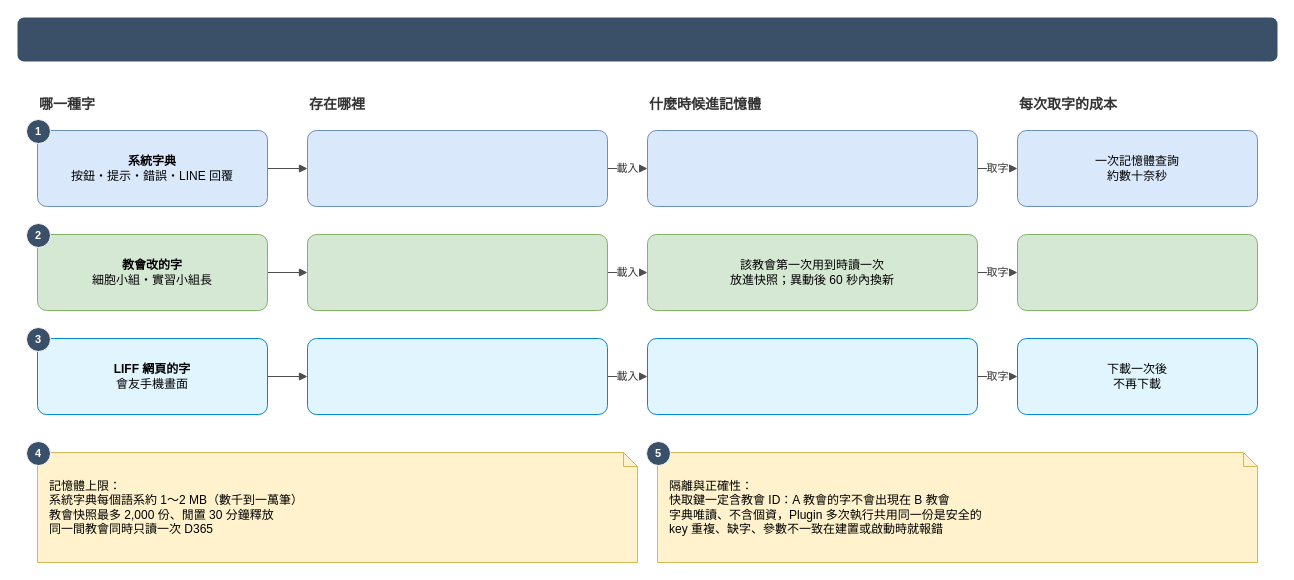
This 1294x580 diagram has some shape labels left out. The centre of each missing label's shape, as x and y in pixels:
"06A｜字典什麼時候進記憶體：取字只查記憶體，不在每次顯示時讀檔或查 D365" goes at point 647,39.
"D365 new_localizedtext （教會＋key＋語系）" goes at point 457,272.
"只下載目前語言那一份 瀏覽器長期快取" goes at point 812,376.
"建置時由 .resx 產生程式碼 編進 DLL（Plugin 也一樣）" goes at point 457,168.
"每個語系一個 JSON 檔 檔名帶內容雜湊" goes at point 457,376.
"程式啟動時一次載入 每個語系一份唯讀表" goes at point 812,168.
"第一次數十毫秒 之後同樣數十奈秒" goes at point 1137,272.
